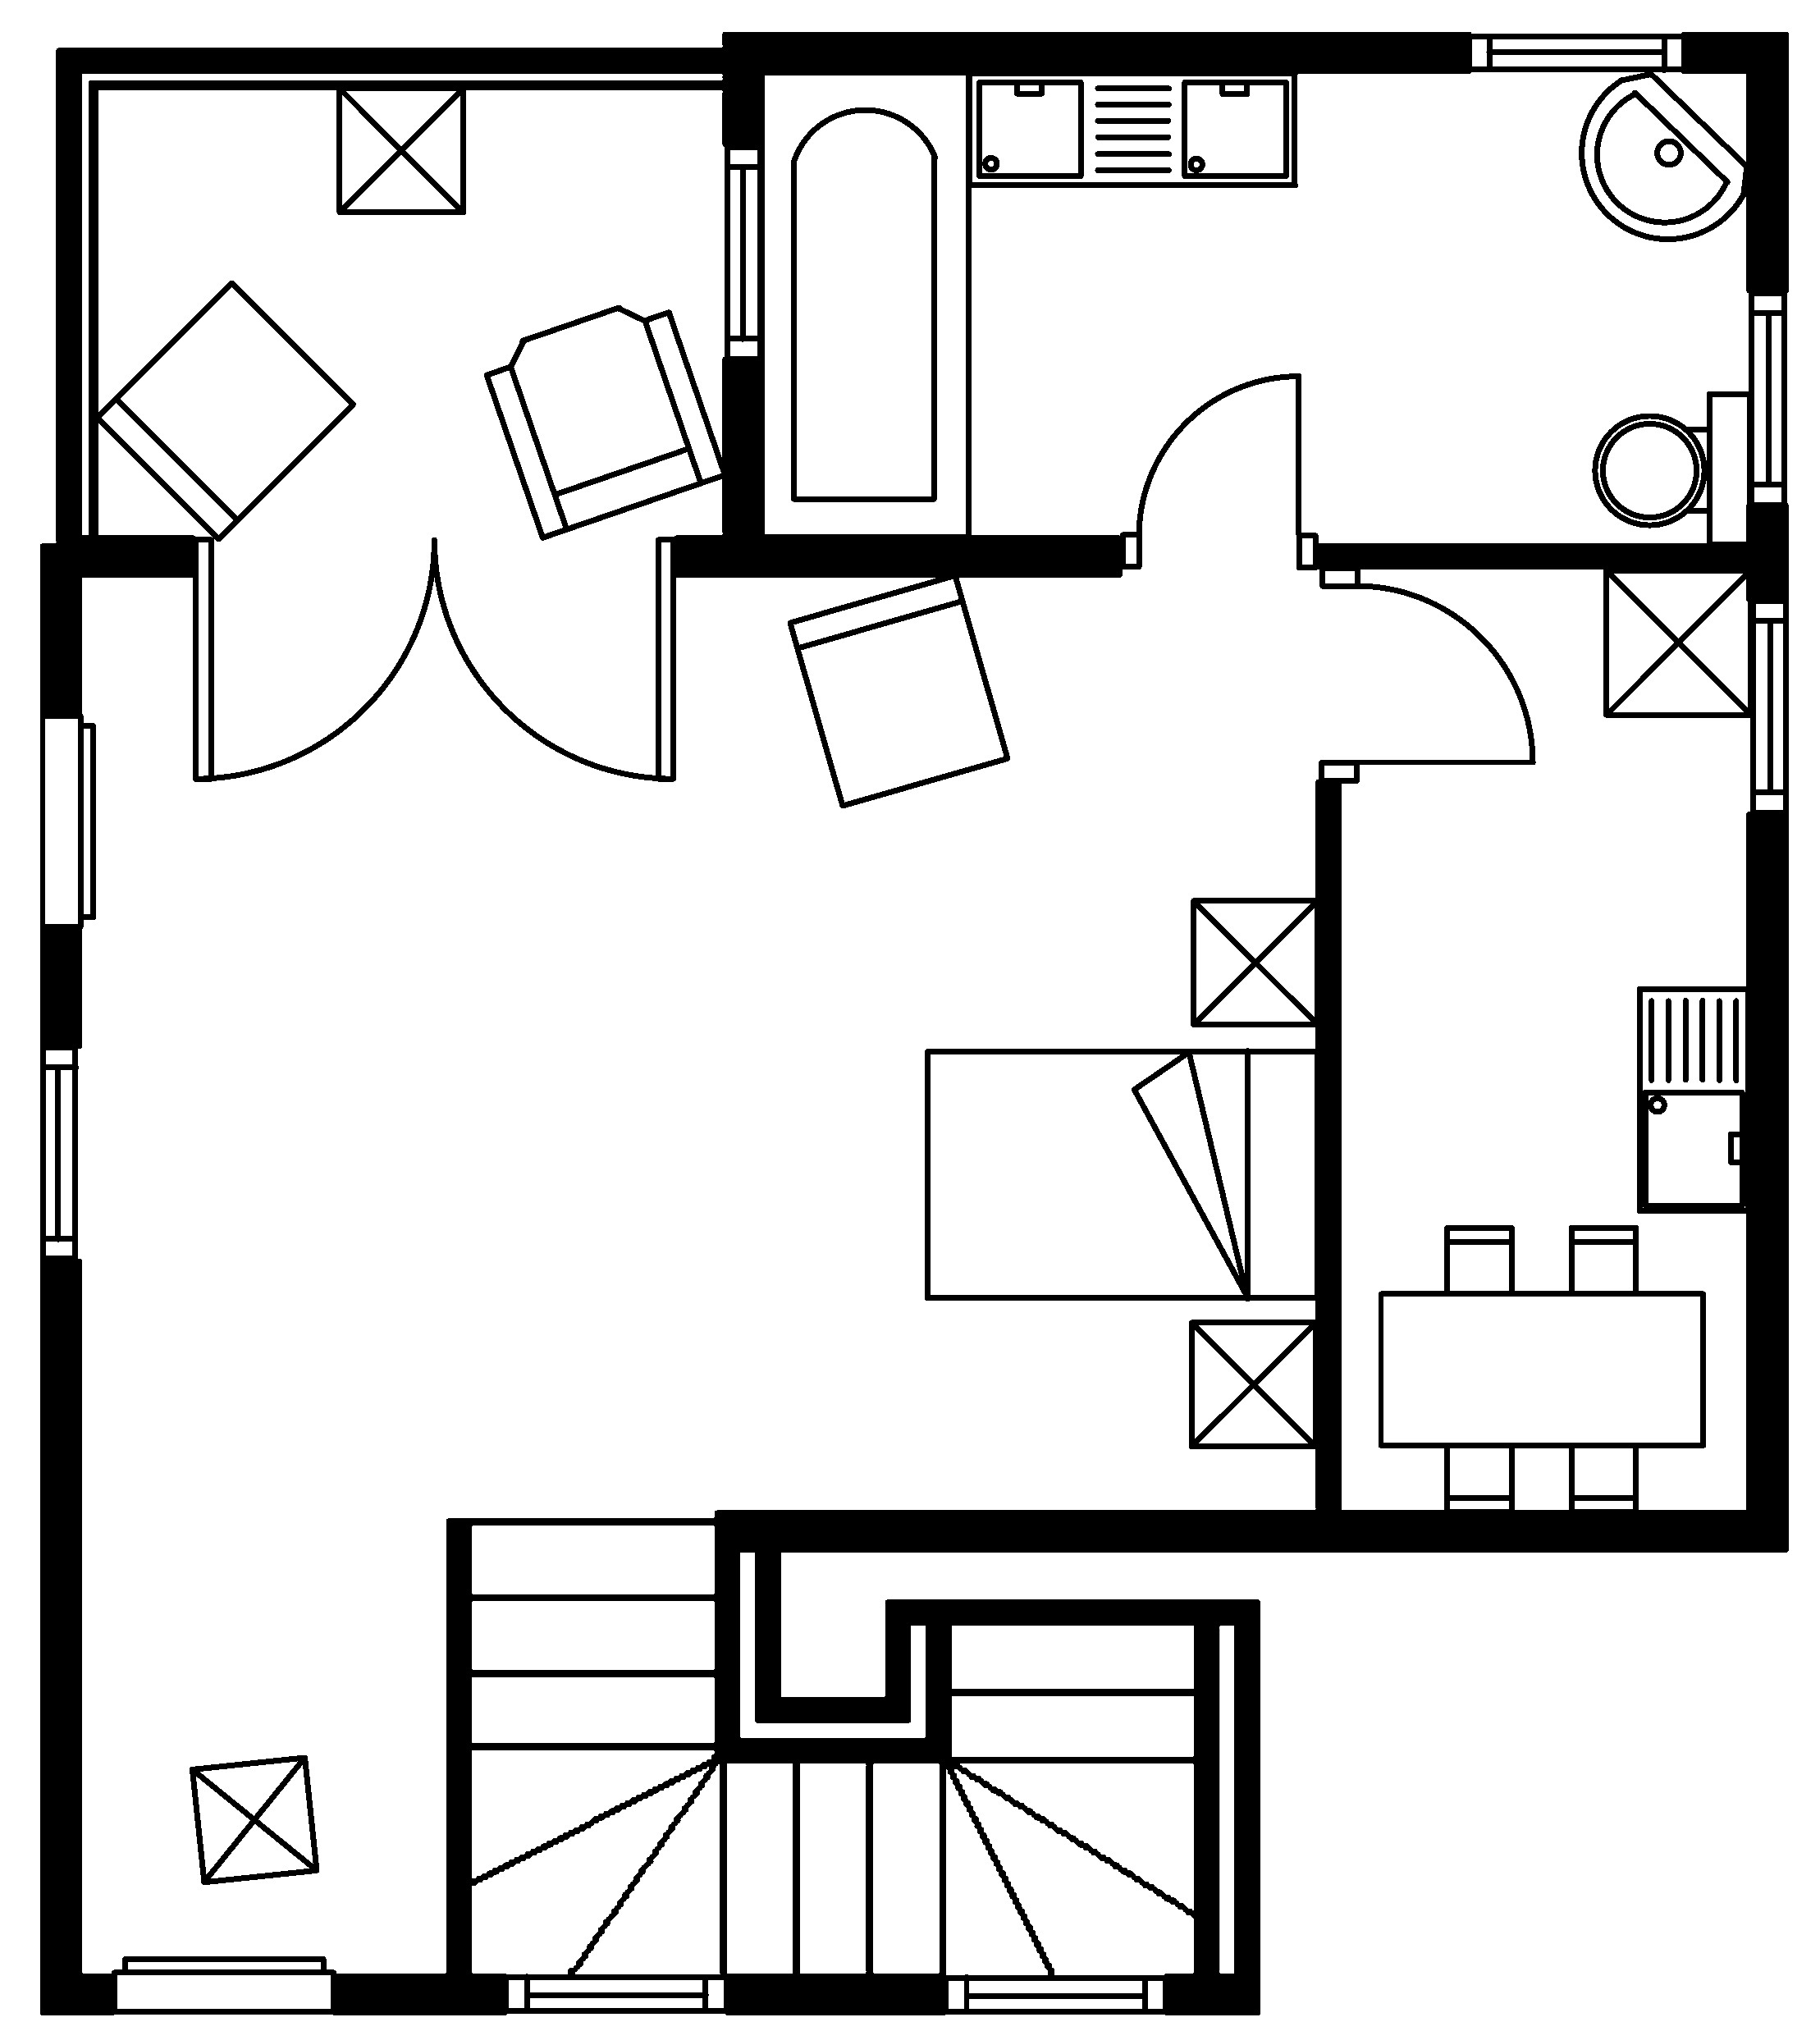armchair: (481, 302, 727, 541)
bed: (922, 1047, 1321, 1302)
coffee_table: (1602, 566, 1753, 719), (186, 1753, 320, 1885), (1186, 1318, 1319, 1449), (1189, 896, 1321, 1028), (336, 84, 466, 214)
dining_table: (1376, 1223, 1706, 1516)
large_sink: (1592, 388, 1753, 548)
sink: (1634, 984, 1751, 1214)
small_sink: (1578, 70, 1750, 241)
small_sofa: (93, 278, 357, 543), (785, 571, 1010, 810)
tub: (757, 69, 971, 539)
twin_sink: (964, 69, 1298, 188)
